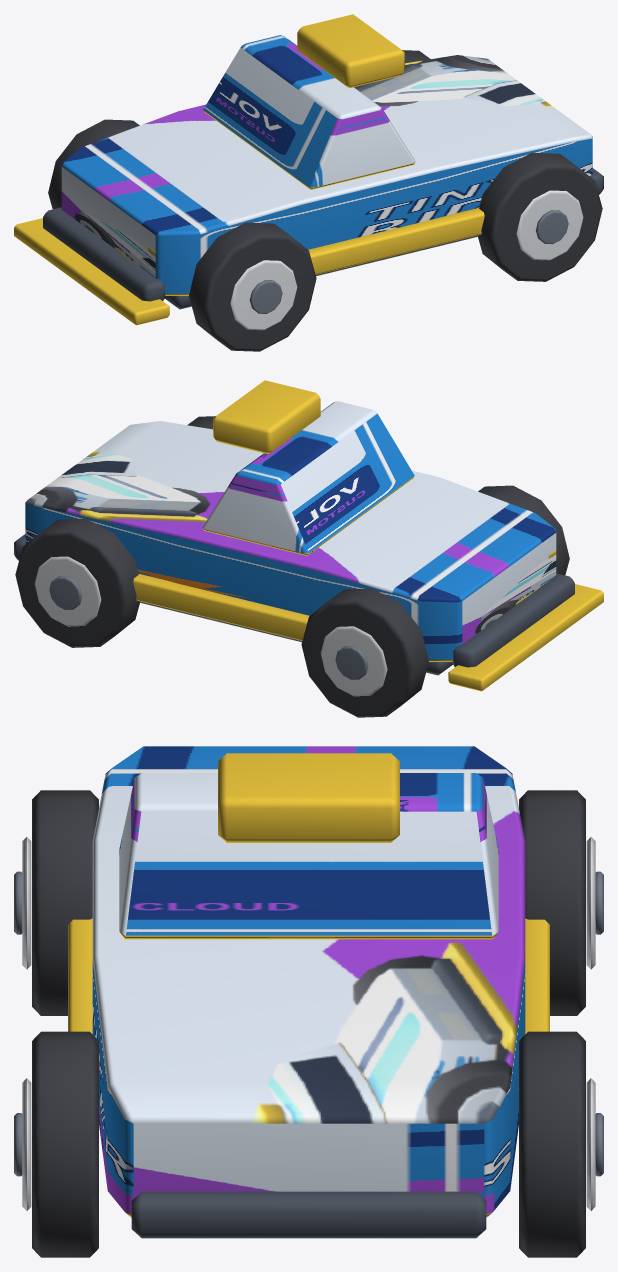
3 renders of one model, top to bottom at view 1: azimuth 30°, elevation 25°; view 2: azimuth 150°, elevation 25°; view 3: azimuth 270°, elevation 25°, orthographic. The views are drawn at different scales.
Visible parts, largest first — view 1: FF-03_connected_shell, FF-03_cabin, Tire, Tire.002, custom equipment, custom side guard, custom chin, front bumper, Rim.002, Rim, Tire.001, Hub.002 (+2 smaller); view 2: FF-03_connected_shell, FF-03_cabin, Tire.001, Tire.003, custom equipment, custom side guard.001, custom chin, front bumper, Rim.003, Rim.001, Tire, Hub.003 (+2 smaller); view 3: FF-03_connected_shell, FF-03_cabin, rear bumper, custom equipment, Tire.002, Tire.003, Tire, Tire.001, custom side guard, custom side guard.001, Rim.002, Rim.003 (+2 smaller).
Part boxes in pixels (x1,y1,x2,y2): FF-03_connected_shell: [61, 55, 592, 295]; FF-03_cabin: [203, 35, 415, 189]; Tire: [189, 222, 316, 351]; Tire.002: [477, 152, 602, 281]; custom equipment: [297, 14, 404, 88]; custom side guard: [308, 208, 484, 274]; custom chin: [14, 218, 169, 325]; front bumper: [43, 207, 165, 301]; Rim.002: [516, 190, 583, 260]; Rim: [230, 260, 297, 330]; Tire.001: [48, 119, 139, 209]; Hub.002: [535, 210, 568, 244]; FF-03_connected_shell: [25, 421, 556, 661]; FF-03_cabin: [202, 401, 414, 555]; Tire.001: [301, 588, 428, 717]; Tire.003: [15, 518, 140, 647]; custom equipment: [213, 380, 320, 454]; custom side guard.001: [133, 574, 309, 640]; custom chin: [448, 584, 603, 691]; front bumper: [452, 573, 574, 667]; Rim.003: [34, 556, 101, 626]; Rim.001: [320, 626, 387, 696]; Tire: [478, 485, 569, 575]; Hub.003: [49, 576, 82, 610]; FF-03_connected_shell: [92, 746, 525, 1217]; FF-03_cabin: [119, 773, 498, 939]; rear bumper: [131, 1191, 486, 1238]; custom equipment: [218, 753, 399, 842]; Tire.002: [32, 1031, 98, 1257]; Tire.003: [519, 1031, 585, 1257]; Tire: [32, 790, 98, 1015]; Tire.001: [519, 790, 585, 1015]; custom side guard: [68, 918, 92, 1033]; custom side guard.001: [525, 918, 549, 1033]; Rim.002: [22, 1078, 31, 1210]; Rim.003: [586, 1078, 595, 1210].
Size of the model in its own units: 373 by 160 by 229.
